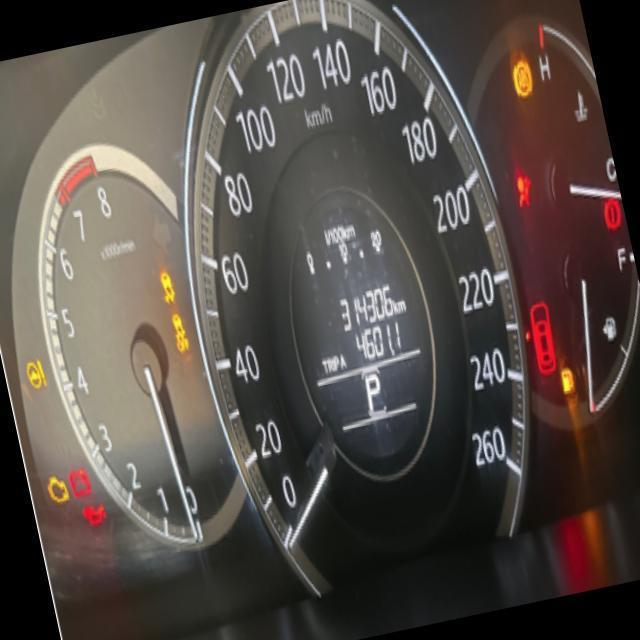Low fuel level: (556, 362, 578, 397)
